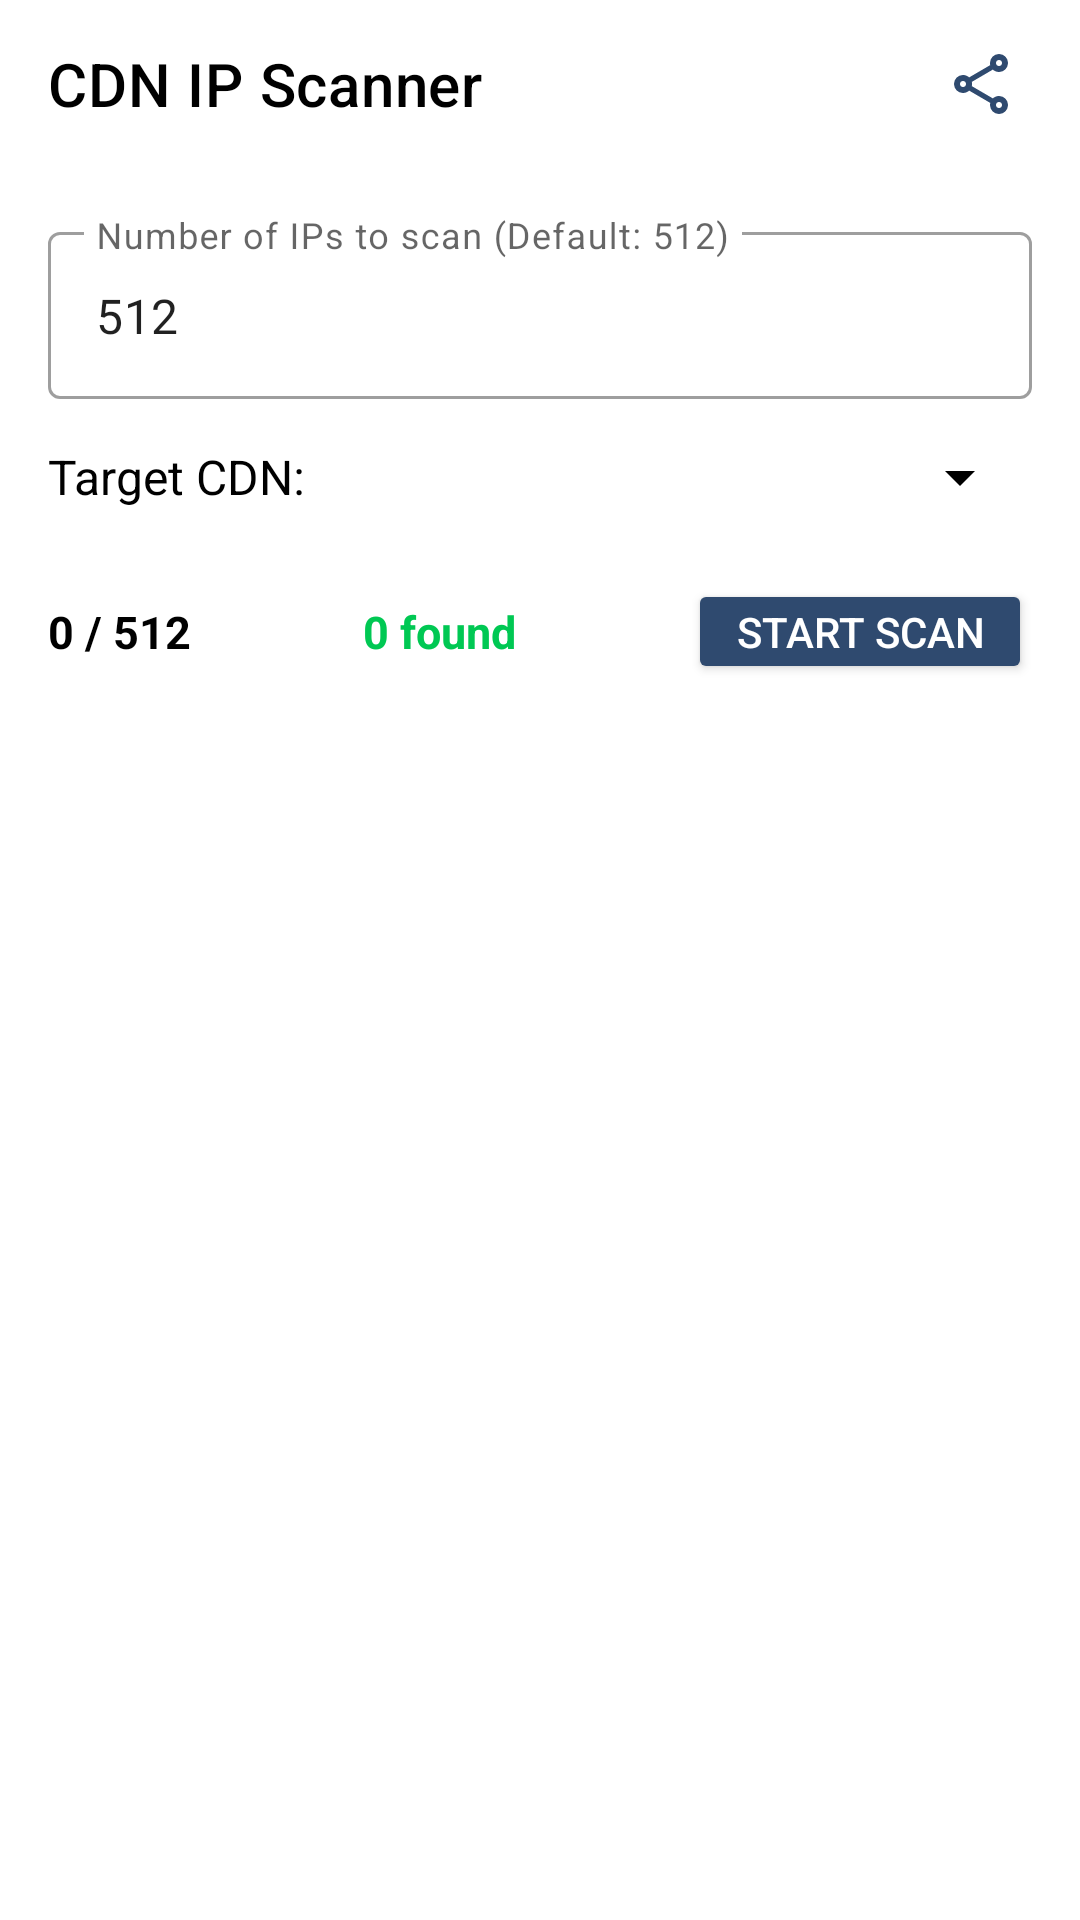

Locate icon controls on the screen. Image size 1080 x 1920, boxes as bbox=(x1, y1, x2, y2).
Share IPs: bbox=(954, 54, 1008, 114)
